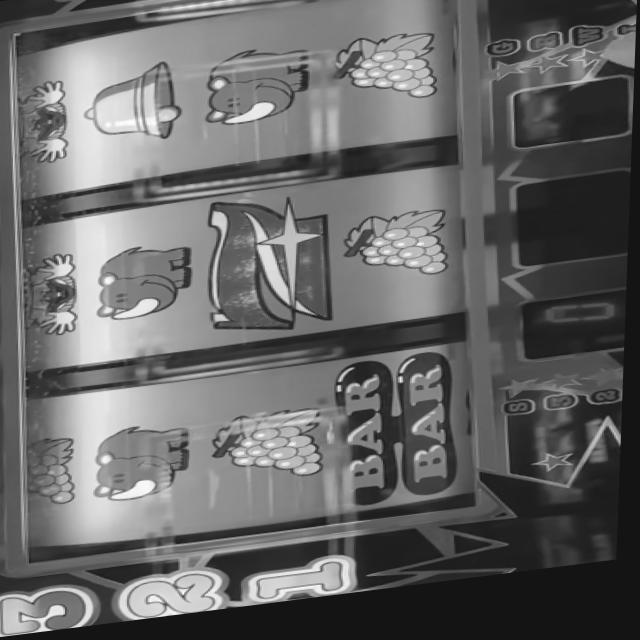bar: (330, 359, 466, 520)
bell: (80, 62, 186, 152)
clown: (24, 252, 85, 342), (19, 78, 73, 168)
display: (0, 0, 493, 570)
elephant: (203, 48, 315, 134), (94, 243, 198, 327), (95, 423, 195, 507)
grape: (326, 37, 446, 119), (211, 412, 329, 495), (339, 216, 458, 296), (30, 435, 82, 510)
z: (202, 194, 342, 346)
